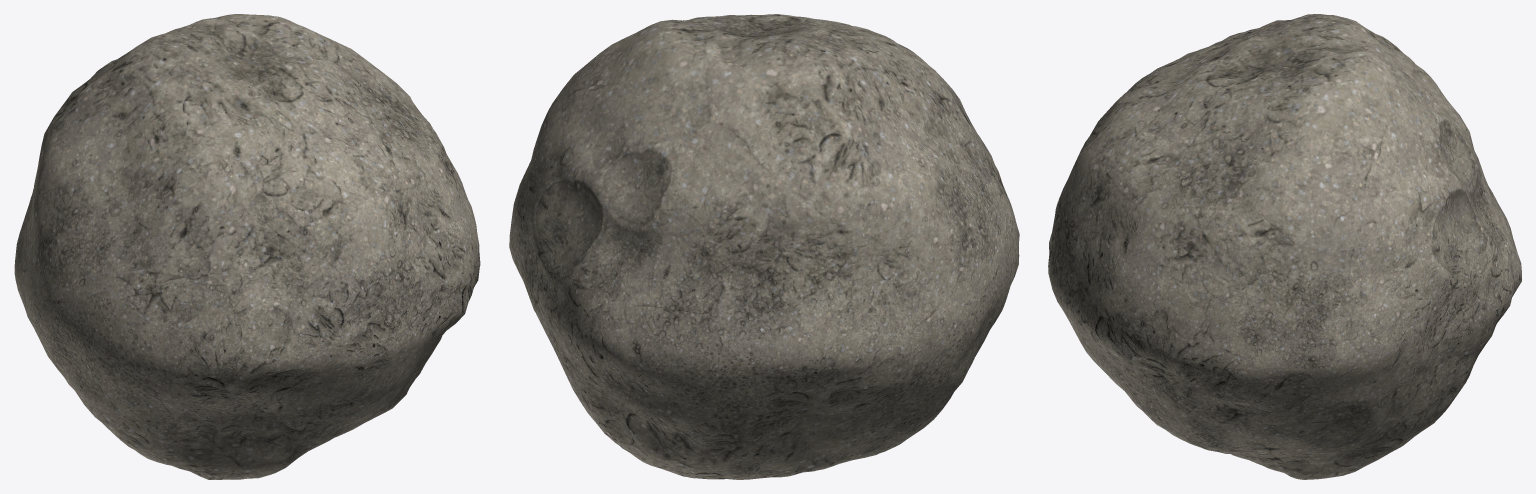
File: didymos.glb
The picture shows the model from 3 angles, left to right: view 1: azimuth 30°, elevation 25°; view 2: azimuth 150°, elevation 25°; view 3: azimuth 270°, elevation 25°; orthographic projection. The views are drawn at different scales.
Parts seen in each view (by area): view 1: DidymosA; view 2: DidymosA; view 3: DidymosA.
Boxes of the visible parts, x1,y1,x2,y2 form: DidymosA: (14,14,480,479); DidymosA: (509,14,1019,479); DidymosA: (1048,14,1521,479).
Bounding box in the file's own units: 821 × 778 × 828.
Materials: 1 (1 with a texture image).
